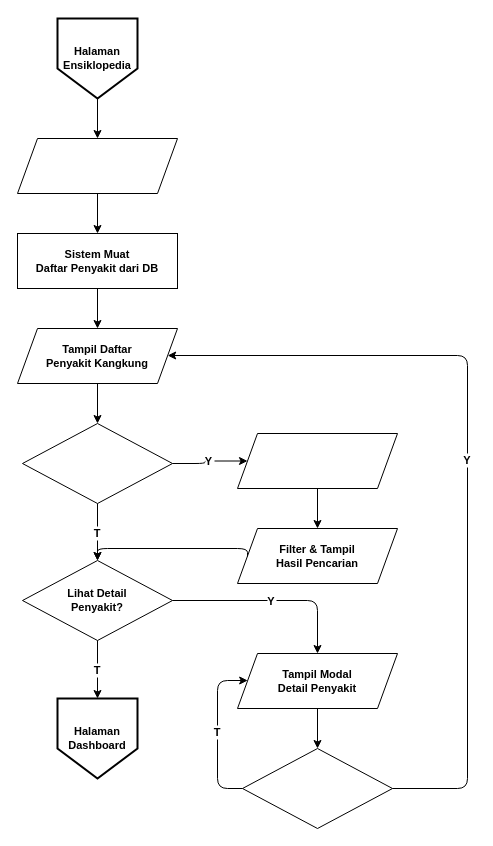
This 493x846 diagram has some shape labels left out. Each missing label, with the centre of its shape:
Data Ensiklopedia: [97,166]
Input Kata Kunci Pencarian: [317,460]
Pencarian Penyakit?: [97,463]
Tutup Modal?: [317,788]
